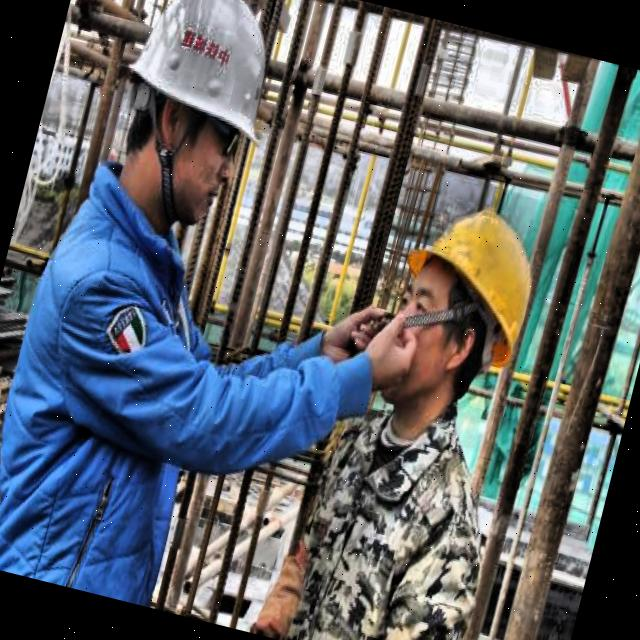helmet: (344, 180, 564, 441), (90, 0, 286, 241)
